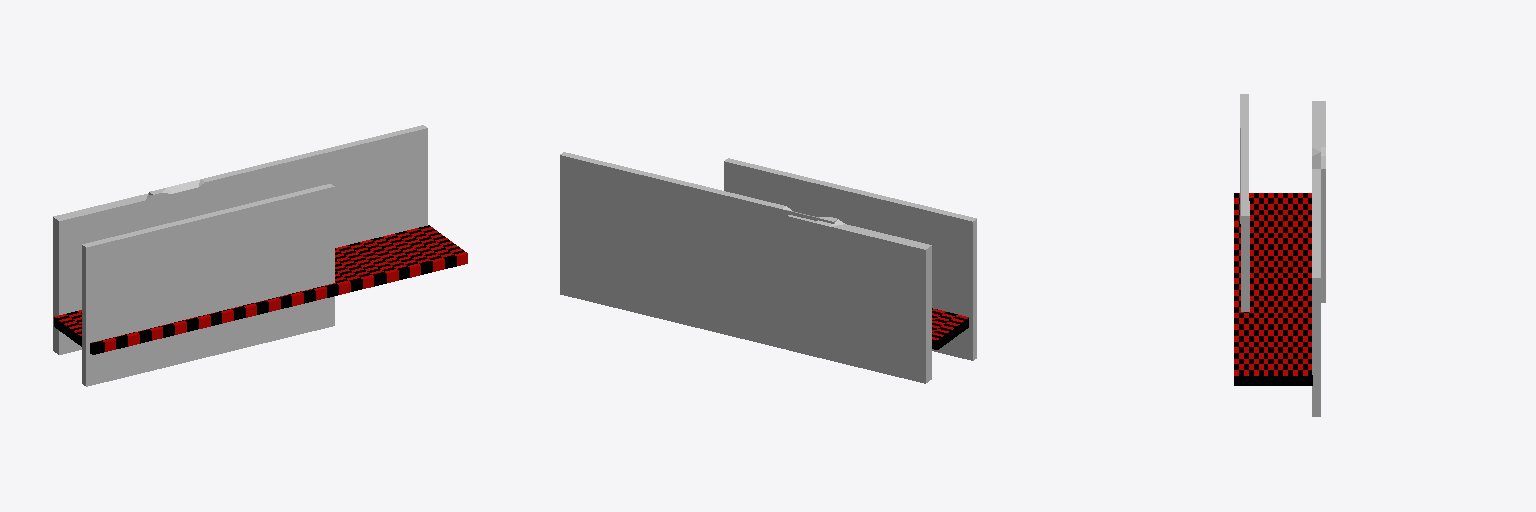
Rendered from hallwayright.obj.
3 renders of one model, left to right at view 1: azimuth 30°, elevation 25°; view 2: azimuth 150°, elevation 25°; view 3: azimuth 270°, elevation 25°, orthographic.
Visible parts, largest first — view 1: wall_left, wall_right.001, floor.006; view 2: wall_right.001, wall_left, floor.006; view 3: floor.006, wall_right.001, wall_left.
Boxes of the visible parts, <box> form: wall_left: <box>82,184,334,386</box>; wall_right.001: <box>53,125,427,354</box>; floor.006: <box>54,225,467,354</box>; wall_right.001: <box>560,152,931,383</box>; wall_left: <box>724,158,976,360</box>; floor.006: <box>932,308,968,349</box>; floor.006: <box>1234,193,1312,385</box>; wall_right.001: <box>1312,101,1325,416</box>; wall_left: <box>1240,94,1249,311</box>.
Bounding box in the file's own units: 19.09 × 6.75 × 3.97.